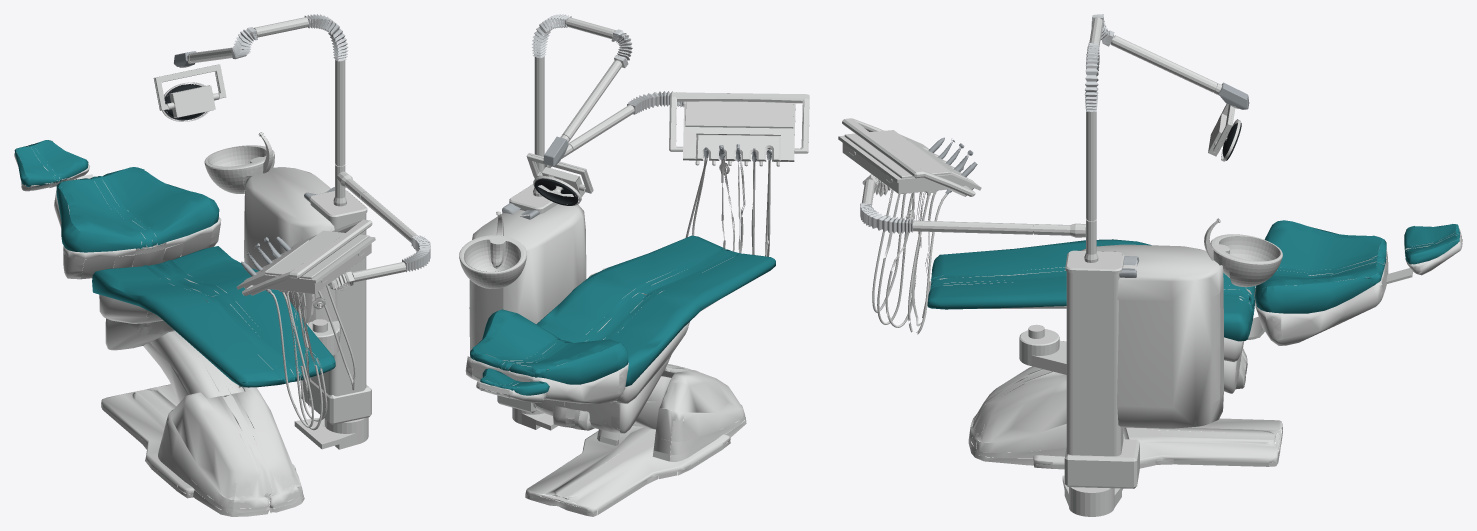
The model's file is riunito.glb.
3 renders of one model, left to right at view 1: azimuth 30°, elevation 25°; view 2: azimuth 150°, elevation 25°; view 3: azimuth 270°, elevation 25°, orthographic. The views are drawn at different scales.
Parts seen in each view (by area): view 1: _exp_R; view 2: _exp_R; view 3: _exp_R.
Boxes of the visible parts, x1,y1,x2,y2 form: _exp_R: (14,14,430,516); _exp_R: (459,14,809,516); _exp_R: (838,14,1462,516).
Size of the model in its own units: 0.9763 by 1.86 by 2.36.
